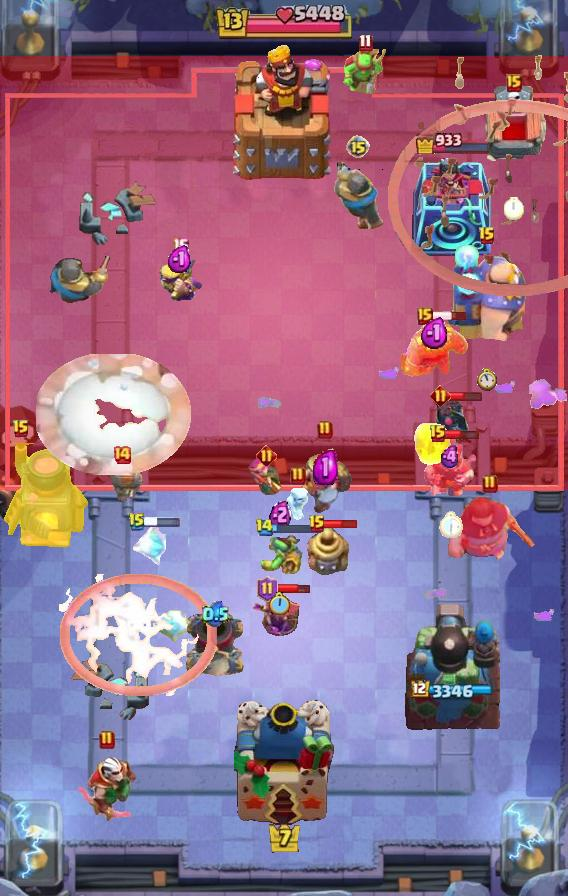arrows: (157, 260, 203, 303)
bandit: (296, 443, 354, 513)
barbarian-evolution: (59, 574, 217, 696)
bat: (150, 607, 198, 645), (130, 523, 166, 569)
battle-ram: (431, 396, 471, 448)
cannon: (248, 458, 284, 506)
clock: (213, 5, 355, 43)
earthquake: (423, 431, 477, 501)
electro-spirit: (420, 318, 450, 350), (314, 450, 339, 485), (167, 246, 193, 275), (203, 601, 230, 628), (269, 499, 291, 531), (438, 445, 461, 469)
elixir: (437, 511, 462, 539), (269, 591, 291, 616), (504, 196, 524, 220), (477, 368, 497, 392)
elixir-golem-mid: (479, 84, 549, 170)
emote: (271, 522, 322, 534), (275, 581, 311, 595), (444, 427, 479, 441), (431, 310, 468, 322), (449, 390, 484, 402), (325, 518, 360, 530), (143, 517, 181, 527)
evolution-symbol: (253, 591, 305, 649)
firecracker: (332, 161, 385, 231), (47, 256, 109, 304)
giant-snowball: (341, 46, 389, 96), (256, 533, 304, 575)
goblin-drill: (306, 525, 352, 577)
goblin-hut: (401, 319, 469, 378)
heal-spirit: (284, 487, 312, 521)
hunter: (0, 443, 90, 551)
king-tower: (230, 43, 338, 181), (234, 700, 334, 826)
knight: (98, 457, 146, 501)
little-prince: (443, 243, 531, 343)
musketeer: (183, 611, 247, 677)
queen-tower: (412, 158, 494, 256)
royal-hog: (443, 494, 537, 564)
selected: (416, 130, 493, 154), (411, 679, 495, 700)
skeleton-barrel: (388, 53, 568, 297)
skeleton-king: (75, 754, 139, 824)
text: (346, 135, 370, 159), (257, 576, 279, 602), (430, 385, 451, 406), (256, 446, 277, 467), (112, 445, 132, 465), (255, 519, 274, 538), (478, 226, 496, 246), (12, 419, 30, 439), (429, 424, 447, 444), (128, 512, 146, 532), (308, 514, 326, 534), (171, 237, 188, 256), (317, 420, 333, 440), (290, 466, 306, 486), (482, 474, 498, 494), (99, 730, 115, 750), (506, 74, 522, 92), (417, 307, 433, 325), (359, 33, 373, 51)
tower-bar: (403, 601, 503, 731)
valkyrie: (409, 418, 455, 474)
wall-breaker: (36, 354, 191, 475)
